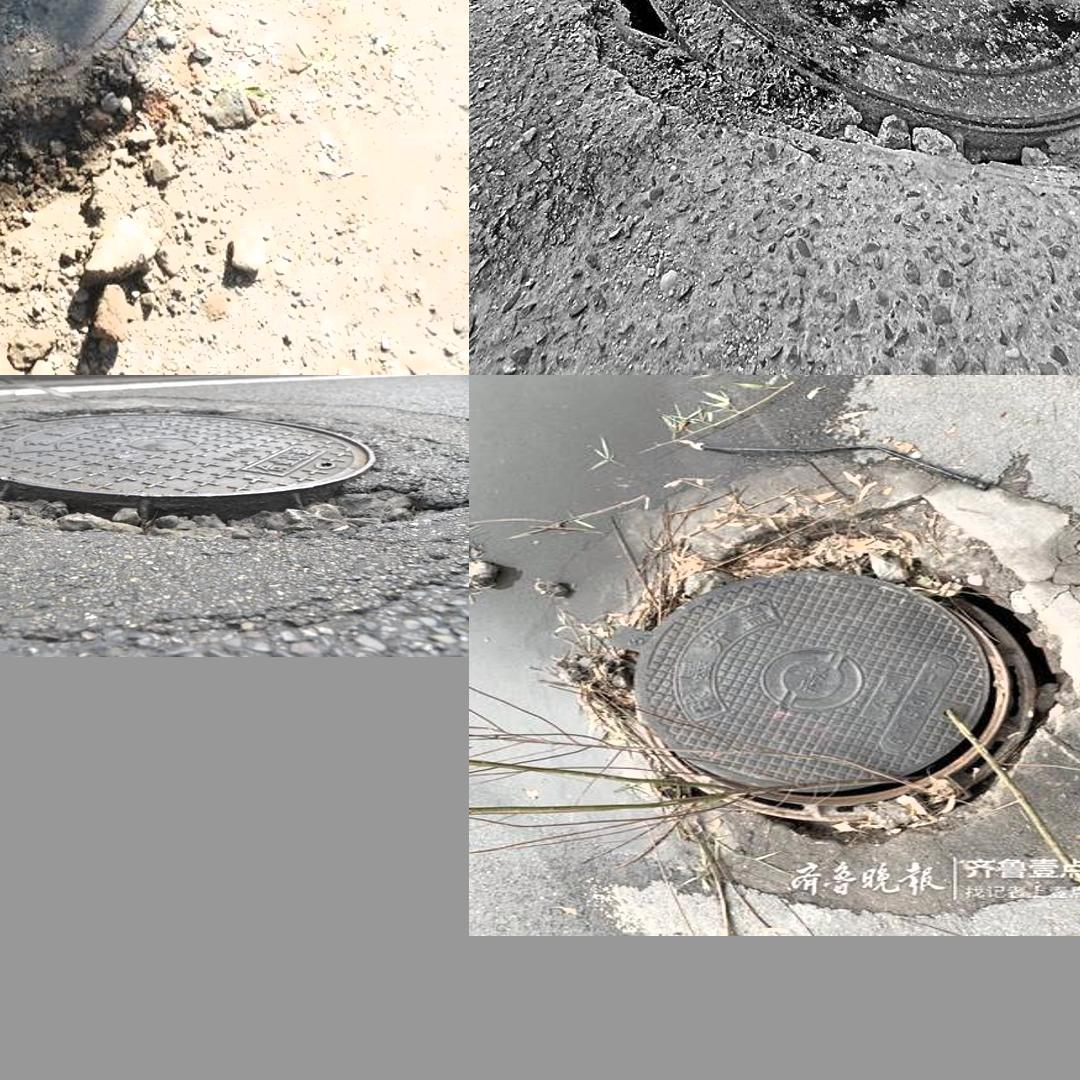circle: (537, 454, 1080, 906), (554, 0, 1080, 289), (0, 401, 446, 548), (0, 0, 277, 160)
